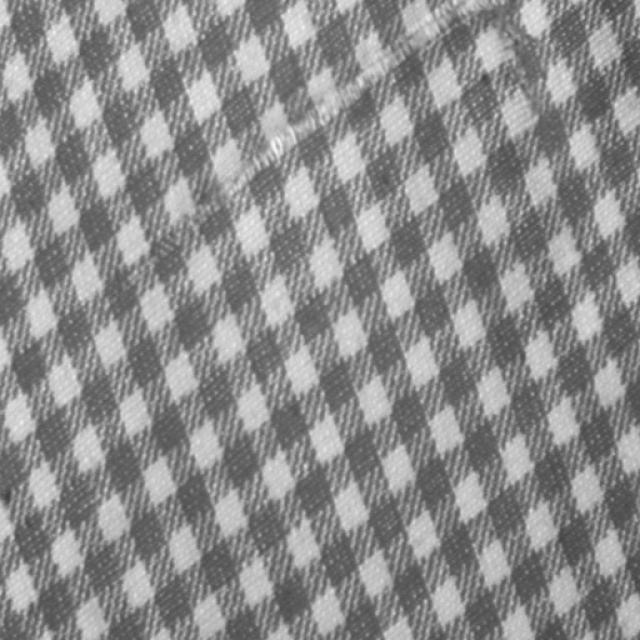Thread-Defect: (175, 3, 474, 243)
